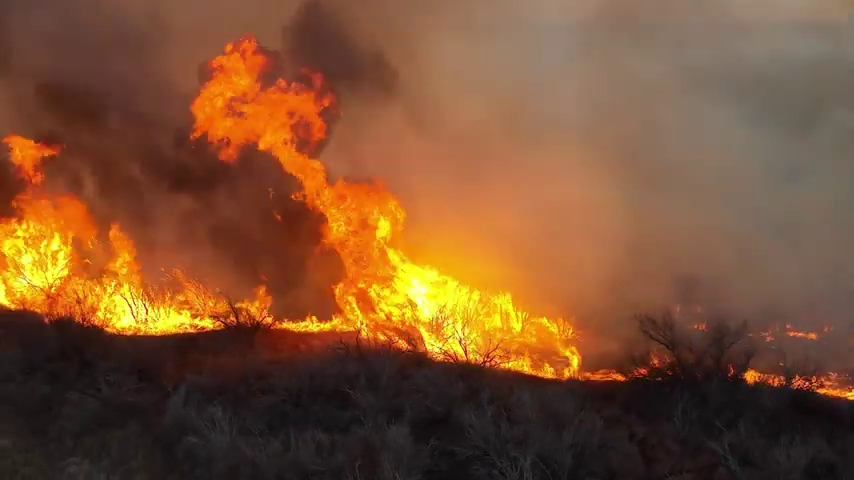forest_fire: (191, 36, 626, 379), (0, 135, 272, 334), (790, 375, 853, 399), (744, 369, 788, 384)
